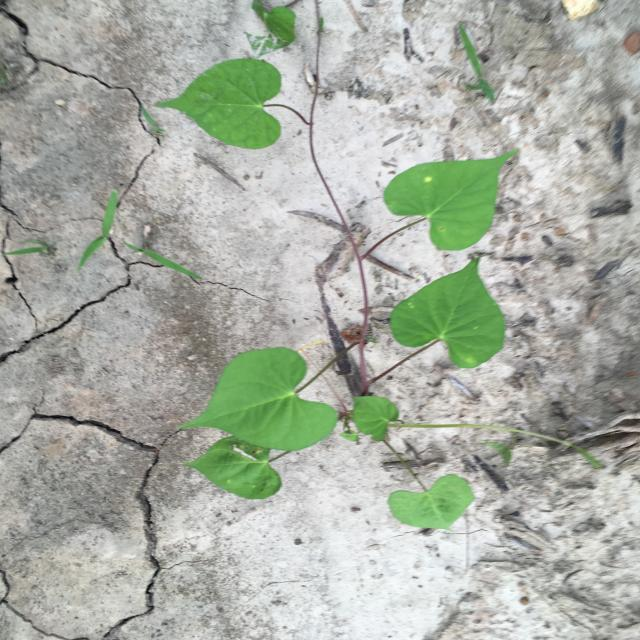MorningGlory: (147, 1, 604, 531)
